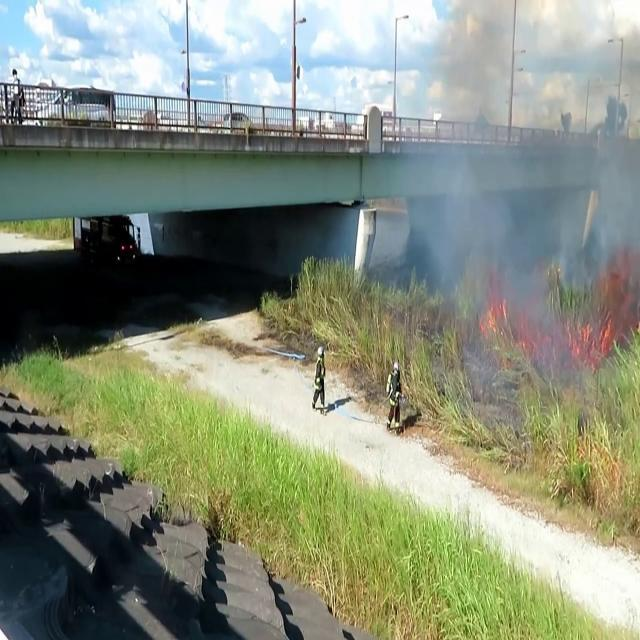Smoke: (402, 19, 640, 369)
